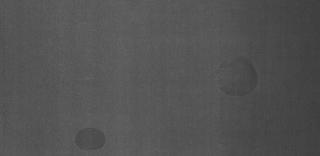oil spot: (215, 50, 261, 100), (74, 124, 108, 152)
